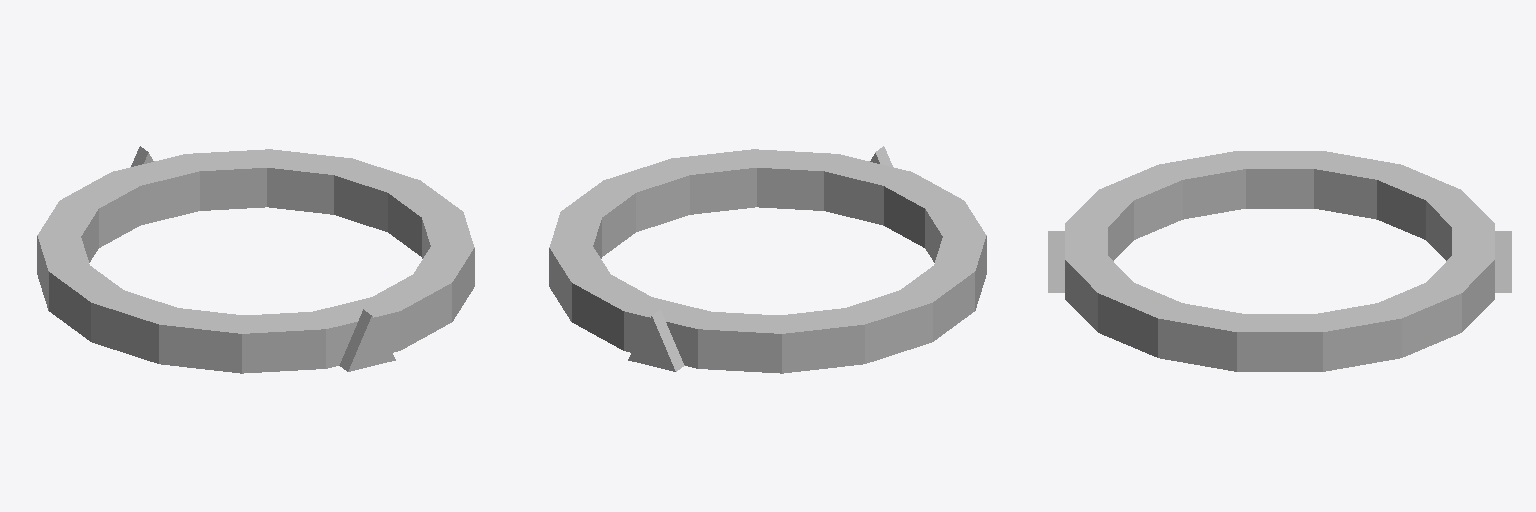
File: snake_bot-01-base.obj
3 renders of one model, left to right at view 1: azimuth 30°, elevation 25°; view 2: azimuth 150°, elevation 25°; view 3: azimuth 270°, elevation 25°, orthographic.
Parts seen in each view (by area): view 1: Cylinder.001_Cylinder.002, Plane.001_Plane.002; view 2: Cylinder.001_Cylinder.002, Plane.003_Plane.012; view 3: Cylinder.001_Cylinder.002, Plane.001_Plane.002, Plane.003_Plane.012.
Boxes of the visible parts, <box> form: Cylinder.001_Cylinder.002: <box>37,149,474,373</box>; Plane.001_Plane.002: <box>339,309,395,371</box>; Cylinder.001_Cylinder.002: <box>549,149,986,373</box>; Plane.003_Plane.012: <box>628,309,684,371</box>; Cylinder.001_Cylinder.002: <box>1065,151,1494,371</box>; Plane.001_Plane.002: <box>1048,231,1064,292</box>; Plane.003_Plane.012: <box>1495,231,1511,292</box>.
Bounding box in the file's own units: 1.96 × 0.2546 × 2.12.